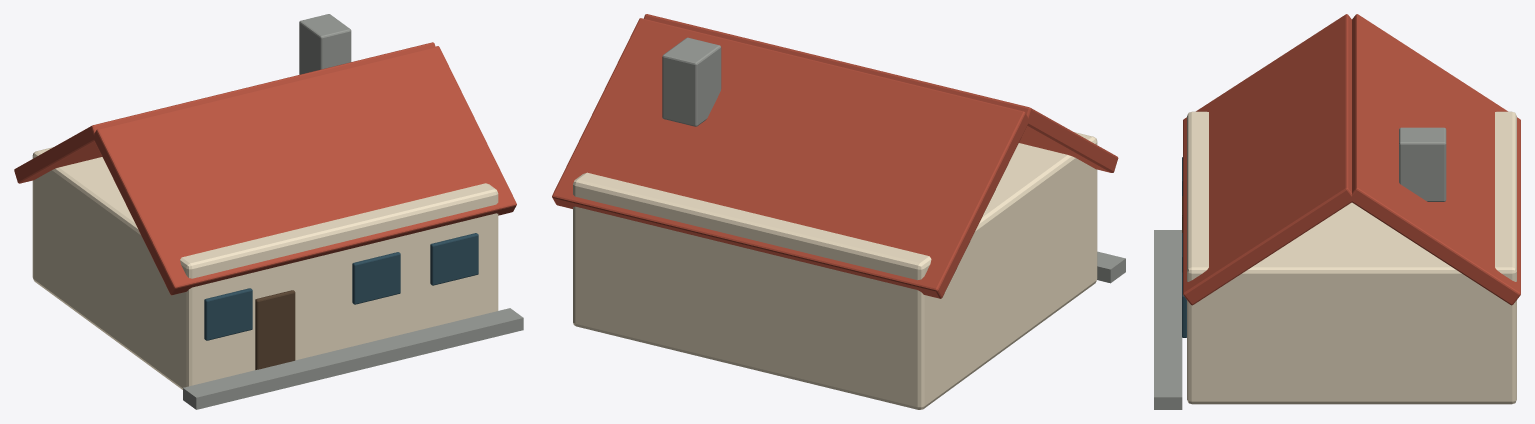
File: house_0.glb
The picture shows the model from 3 angles, left to right: view 1: azimuth 30°, elevation 25°; view 2: azimuth 150°, elevation 25°; view 3: azimuth 270°, elevation 25°; orthographic projection. The views are drawn at different scales.
Visible parts, largest first — view 1: Cube; view 2: Cube; view 3: Cube.
Part boxes in pixels (bbox=[...]): Cube: bbox=[14, 14, 523, 409]; Cube: bbox=[552, 14, 1125, 409]; Cube: bbox=[1154, 14, 1520, 409].
Size of the model in its own units: 8.8 by 5.6 by 7.79.
